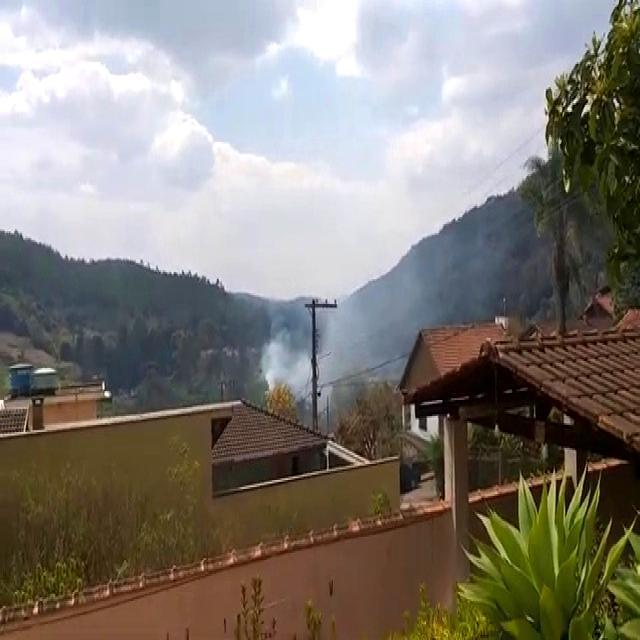Smoke: (262, 276, 421, 416)
